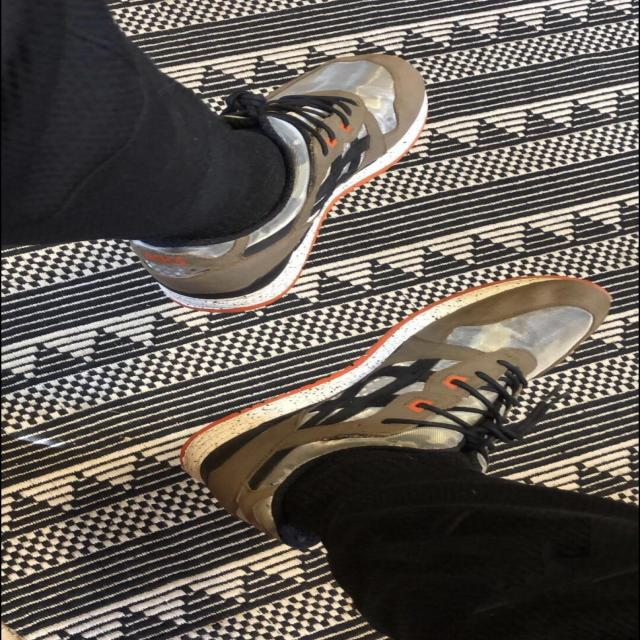shoe: (168, 273, 626, 559), (117, 46, 441, 317)
